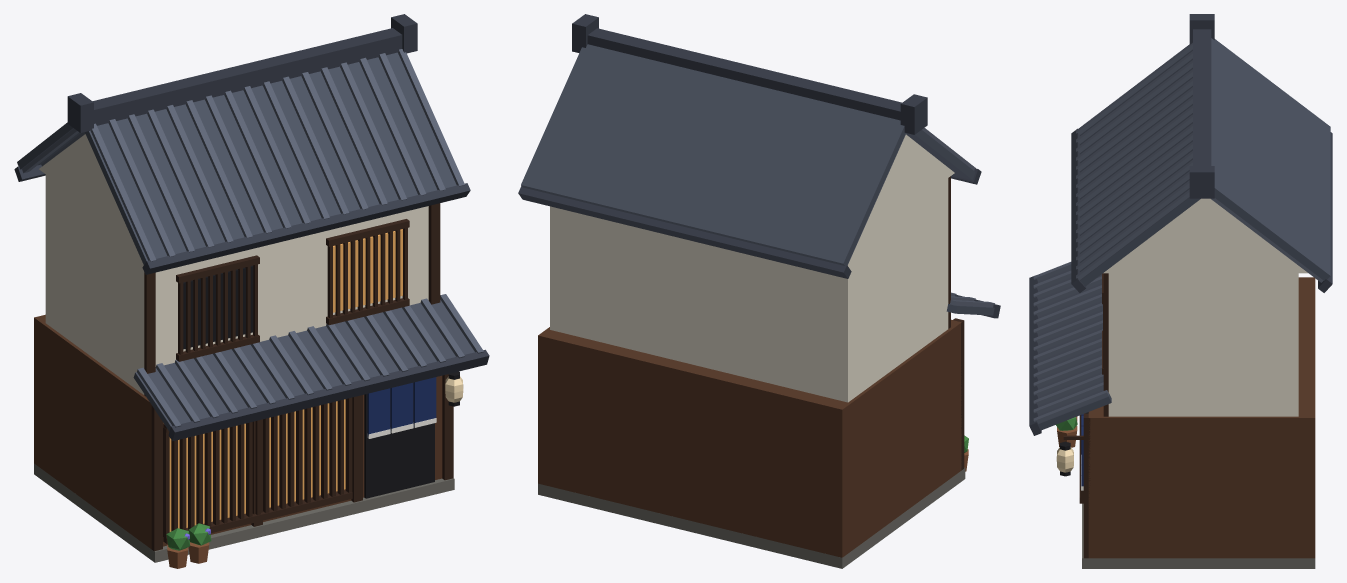
File: machiya-shop.glb
3 views of the same model, side by side, from view 1: azimuth 30°, elevation 25°; view 2: azimuth 150°, elevation 25°; view 3: azimuth 270°, elevation 25° (orthographic). The views are drawn at different scales.
Visible parts, largest first — view 1: MachiyaShop_Roof, MachiyaShop_Wood, MachiyaShop_Rib, MachiyaShop_Plaster, MachiyaShop_Ridge, MachiyaShop_WoodMid, MachiyaShop_Caps, MachiyaShop_Glow, MachiyaShop_Base, MachiyaShop_Noren, MachiyaShop_Leaf, MachiyaShop_Pot; view 2: MachiyaShop_WoodMid, MachiyaShop_Plaster, MachiyaShop_Roof, MachiyaShop_Ridge, MachiyaShop_Base, MachiyaShop_Wood, MachiyaShop_Rib; view 3: MachiyaShop_Plaster, MachiyaShop_WoodMid, MachiyaShop_Roof, MachiyaShop_Rib, MachiyaShop_Ridge, MachiyaShop_Base, MachiyaShop_Wood.
Part boxes in pixels (x1,y1,x2,y2): MachiyaShop_Roof: [17, 52, 474, 431]; MachiyaShop_Wood: [144, 203, 453, 551]; MachiyaShop_Rib: [22, 49, 483, 427]; MachiyaShop_Plaster: [39, 134, 428, 394]; MachiyaShop_Ridge: [14, 14, 489, 441]; MachiyaShop_WoodMid: [34, 314, 442, 548]; MachiyaShop_Caps: [183, 265, 459, 498]; MachiyaShop_Glow: [169, 229, 402, 531]; MachiyaShop_Base: [34, 463, 454, 562]; MachiyaShop_Noren: [367, 377, 436, 437]; MachiyaShop_Leaf: [166, 523, 211, 550]; MachiyaShop_Pot: [167, 542, 209, 568]; MachiyaShop_WoodMid: [538, 319, 961, 557]; MachiyaShop_Plaster: [550, 134, 954, 402]; MachiyaShop_Roof: [521, 44, 994, 315]; MachiyaShop_Ridge: [518, 14, 1000, 318]; MachiyaShop_Base: [538, 467, 965, 568]; MachiyaShop_Wood: [948, 176, 964, 470]; MachiyaShop_Rib: [847, 128, 994, 307]; MachiyaShop_Plaster: [1103, 198, 1307, 416]; MachiyaShop_WoodMid: [1088, 277, 1315, 558]; MachiyaShop_Roof: [1038, 38, 1330, 430]; MachiyaShop_Rib: [1033, 43, 1323, 423]; MachiyaShop_Ridge: [1029, 14, 1332, 435]; MachiyaShop_Base: [1082, 503, 1315, 568]; MachiyaShop_Wood: [1063, 273, 1108, 558].
Bounding box in the file's own units: 22.5 × 26.85 × 18.23.
